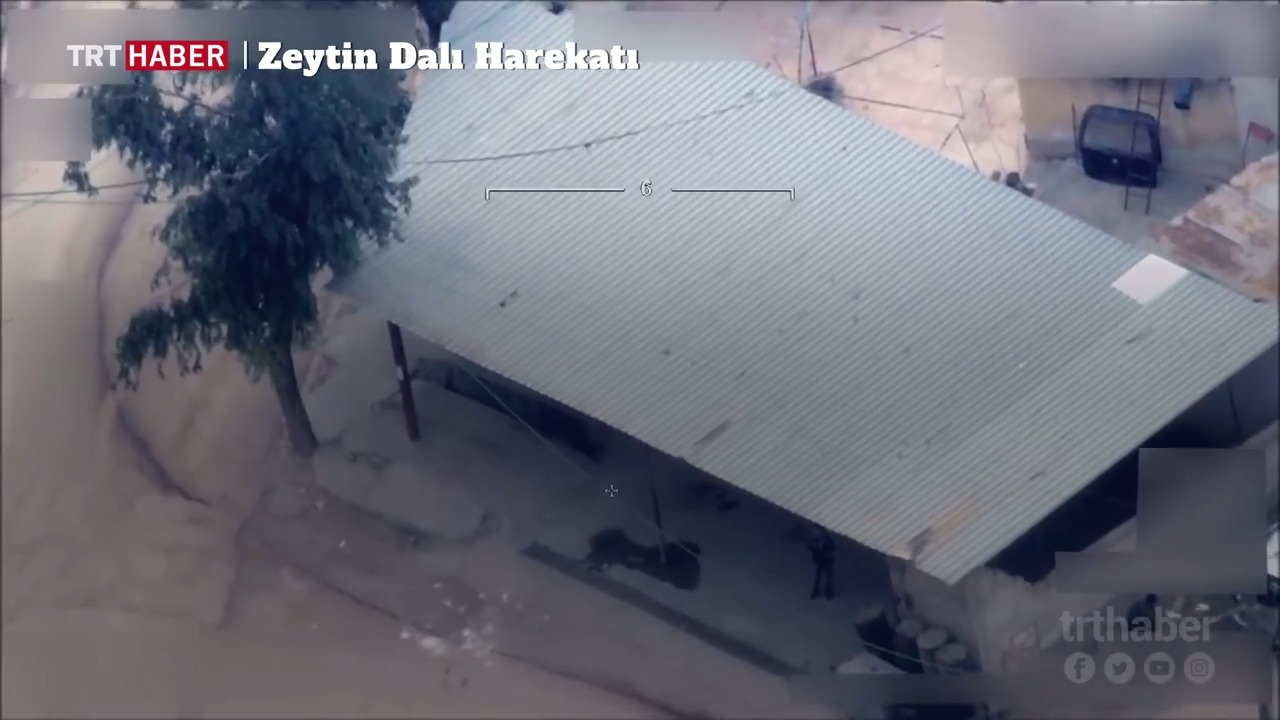insan: (794, 514, 851, 596)
